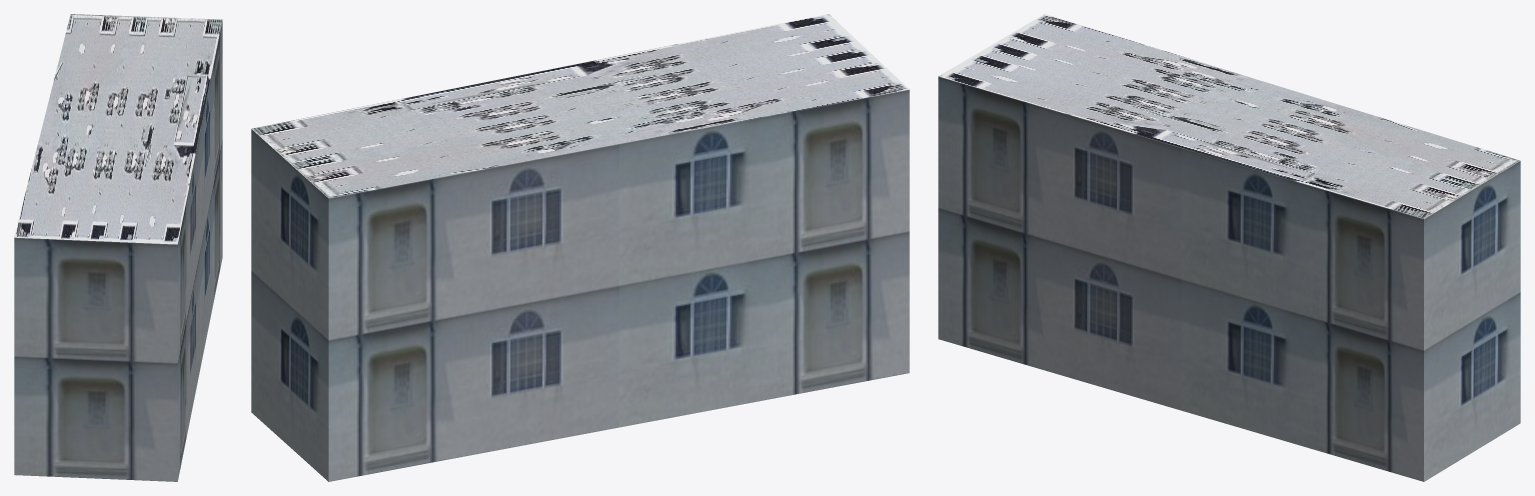
Rendered from ResTex__1111.fbx.
The picture shows the model from 3 angles, left to right: view 1: azimuth 30°, elevation 25°; view 2: azimuth 150°, elevation 25°; view 3: azimuth 270°, elevation 25°; orthographic projection. The views are drawn at different scales.
Parts seen in each view (by area): view 1: CityEngineMaterial_17_m, CityEngineMaterial_m; view 2: CityEngineMaterial_17_m, CityEngineMaterial_m; view 3: CityEngineMaterial_17_m, CityEngineMaterial_m.
Part boxes in pixels (<box>): CityEngineMaterial_17_m: <box>14,21,222,481</box>; CityEngineMaterial_m: <box>14,14,222,244</box>; CityEngineMaterial_17_m: <box>251,89,909,481</box>; CityEngineMaterial_m: <box>251,14,909,198</box>; CityEngineMaterial_17_m: <box>938,76,1520,481</box>; CityEngineMaterial_m: <box>939,14,1519,218</box>.
Size of the model in its own units: 10.05 by 6 by 12.05.
2 materials, 2 textured.
